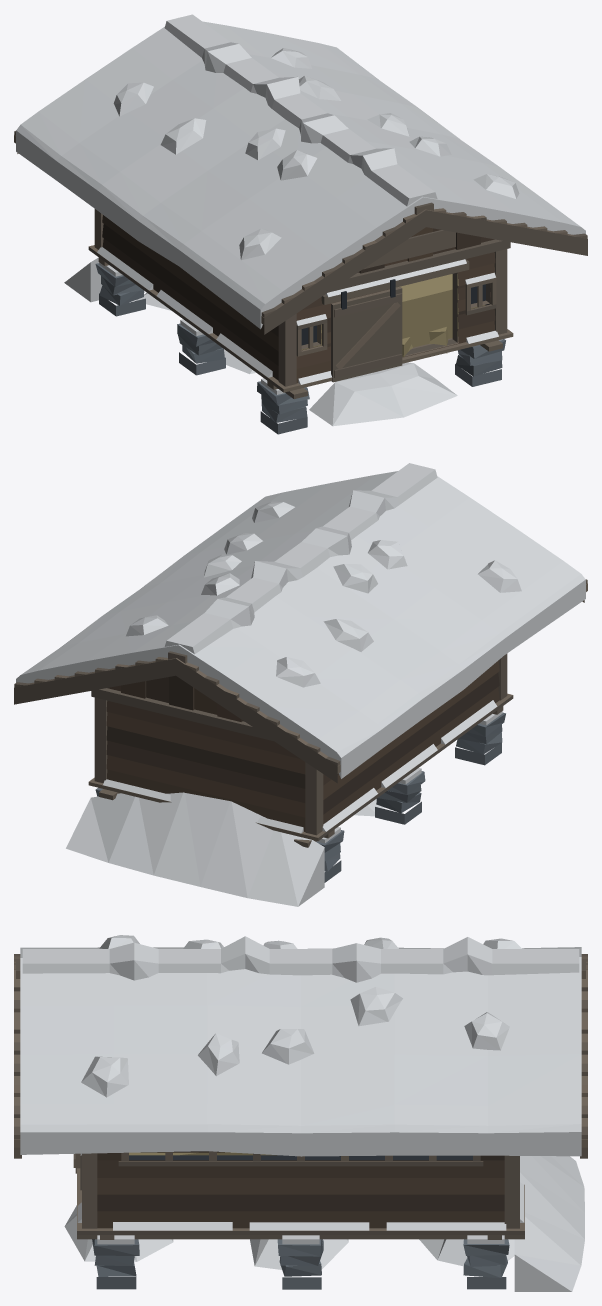
The model's file is alpine-hay-barn-3965e5.glb.
3 renders of one model, top to bottom at view 1: azimuth 30°, elevation 25°; view 2: azimuth 150°, elevation 25°; view 3: azimuth 270°, elevation 25°, orthographic. The views are drawn at different scales.
Parts seen in each view (by area): view 1: alpine-hay-barn, door-leaf; view 2: alpine-hay-barn; view 3: alpine-hay-barn.
Boxes of the visible parts, x1,y1,x2,y2 form: alpine-hay-barn: (14, 14, 587, 434); door-leaf: (331, 279, 402, 382); alpine-hay-barn: (14, 463, 587, 906); alpine-hay-barn: (14, 935, 587, 1291).
Bounding box in the file's own units: 6 × 4.28 × 8.
